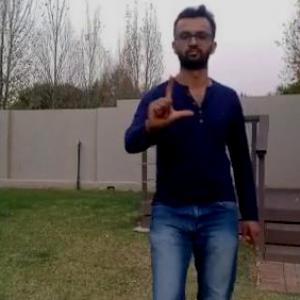land_hand: (141, 68, 197, 132)
